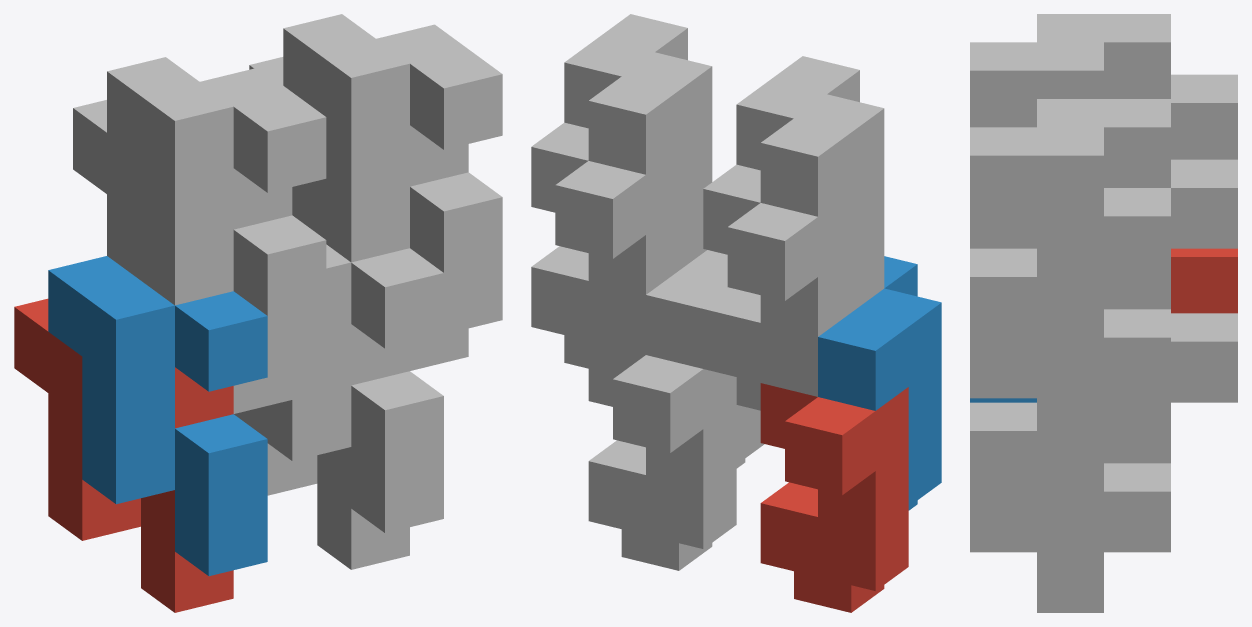
File: tiling.obj
The picture shows the model from 3 angles, left to right: view 1: azimuth 30°, elevation 25°; view 2: azimuth 150°, elevation 25°; view 3: azimuth 270°, elevation 25°; orthographic projection. The views are drawn at different scales.
Visible parts, largest first — view 1: copy_1_domain_2, copy_1_domain_4, copy_1_domain_8, copy_1_domain_6, copy_1_domain_1, copy_1_domain_3, copy_1_domain_5, copy_1_domain_7; view 2: copy_1_domain_1, copy_1_domain_5, copy_1_domain_3, copy_1_domain_7, copy_1_domain_4, copy_1_domain_8, copy_1_domain_2, copy_1_domain_6; view 3: copy_1_domain_8, copy_1_domain_7, copy_1_domain_5, copy_1_domain_4, copy_1_domain_6, copy_1_domain_3, copy_1_domain_1.
Part boxes in pixels (bbox=[...]): copy_1_domain_2: bbox=[48, 256, 267, 576]; copy_1_domain_4: bbox=[107, 57, 326, 377]; copy_1_domain_8: bbox=[283, 14, 502, 334]; copy_1_domain_6: bbox=[258, 244, 443, 533]; copy_1_domain_1: bbox=[14, 298, 233, 612]; copy_1_domain_3: bbox=[73, 100, 292, 413]; copy_1_domain_5: bbox=[234, 324, 409, 569]; copy_1_domain_7: bbox=[249, 57, 468, 370]; copy_1_domain_1: bbox=[760, 383, 908, 612]; copy_1_domain_5: bbox=[588, 341, 736, 570]; copy_1_domain_3: bbox=[703, 164, 851, 410]; copy_1_domain_7: bbox=[531, 122, 678, 368]; copy_1_domain_4: bbox=[736, 56, 884, 312]; copy_1_domain_8: bbox=[564, 14, 712, 270]; copy_1_domain_2: bbox=[818, 256, 941, 510]; copy_1_domain_6: bbox=[646, 250, 764, 468]; copy_1_domain_8: bbox=[970, 99, 1170, 398]; copy_1_domain_7: bbox=[1037, 159, 1237, 458]; copy_1_domain_5: bbox=[1037, 313, 1237, 612]; copy_1_domain_4: bbox=[970, 14, 1170, 248]; copy_1_domain_6: bbox=[970, 402, 1103, 552]; copy_1_domain_3: bbox=[1171, 74, 1237, 159]; copy_1_domain_1: bbox=[1171, 248, 1237, 313].
Size of the model in its own units: 6 by 8 by 4.
